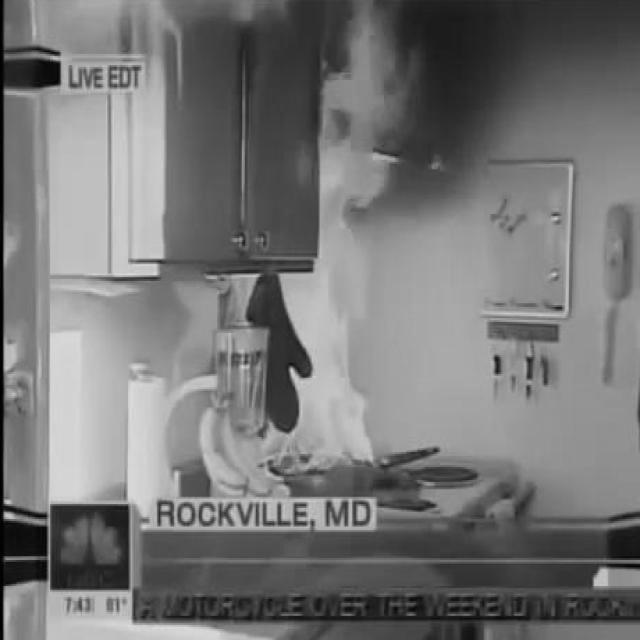fire: (6, 0, 290, 106)
smoke: (259, 242, 378, 472)
